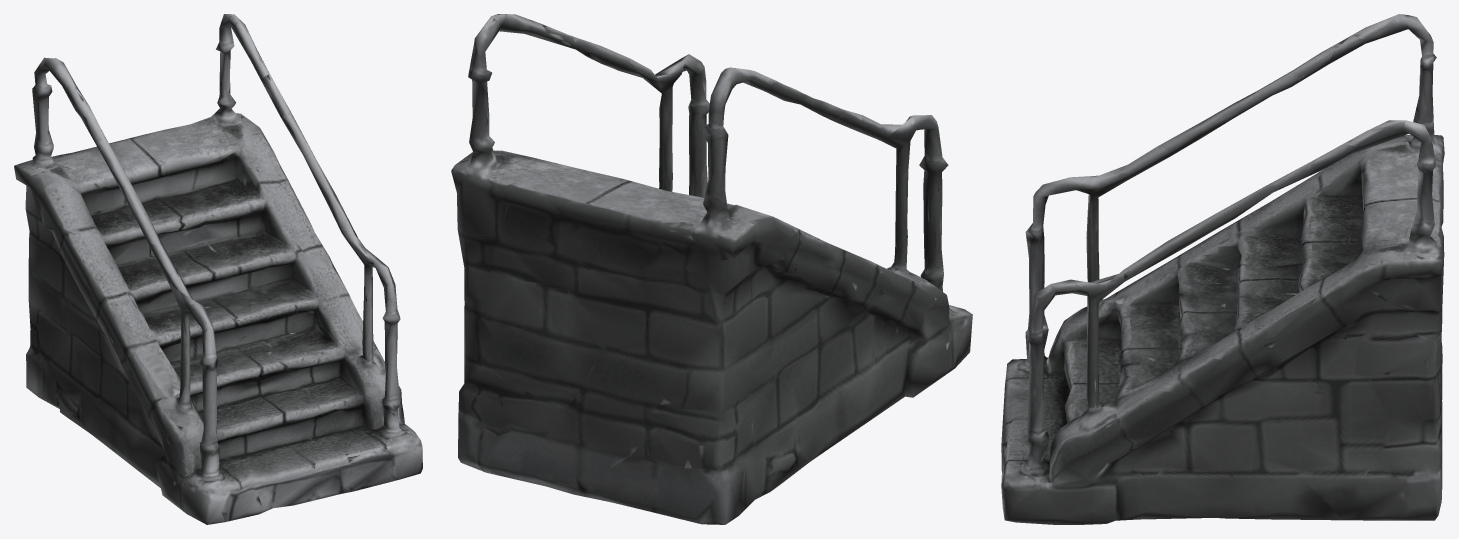
The model's file is stairs_ascending.glb.
3 renders of one model, left to right at view 1: azimuth 30°, elevation 25°; view 2: azimuth 150°, elevation 25°; view 3: azimuth 270°, elevation 25°, orthographic. The views are drawn at different scales.
Size of the model in its own units: 1.39 by 1.99 by 2.
1 material, 1 textured.
